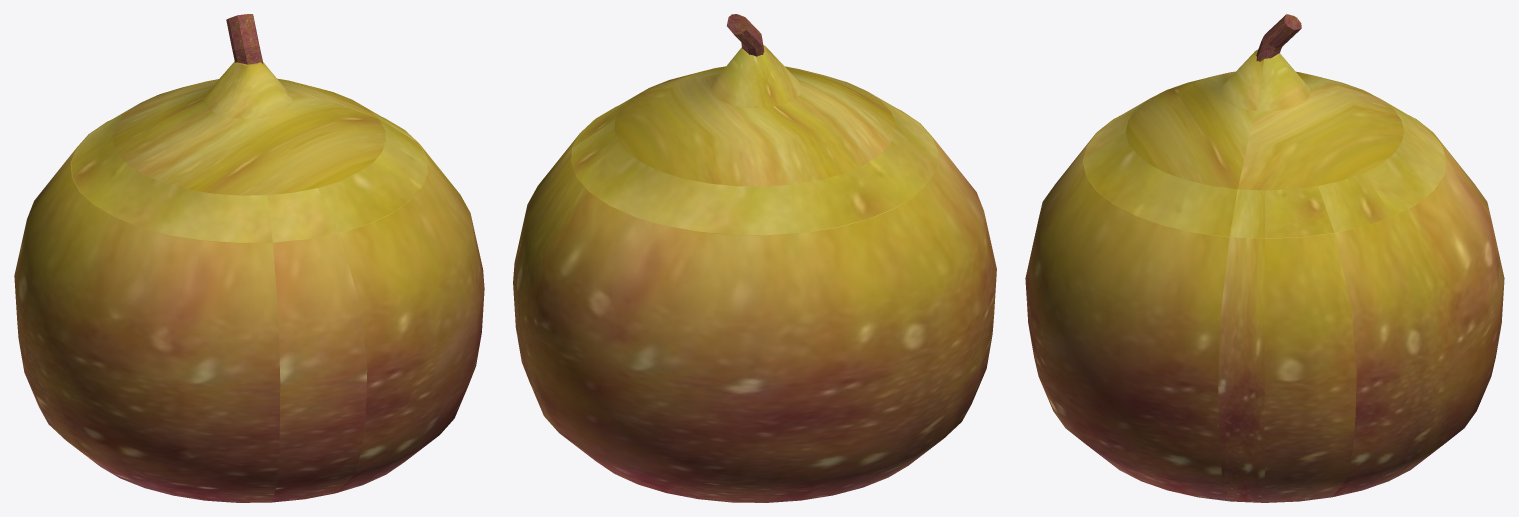
The model's file is Higo.fbx.
3 renders of one model, left to right at view 1: azimuth 30°, elevation 25°; view 2: azimuth 150°, elevation 25°; view 3: azimuth 270°, elevation 25°, orthographic. The views are drawn at different scales.
Parts seen in each view (by area): view 1: higo; view 2: higo; view 3: higo.
Boxes of the visible parts, x1,y1,x2,y2 form: higo: (14, 14, 484, 502); higo: (513, 14, 996, 502); higo: (1025, 14, 1504, 502).
Size of the model in its own units: 187 by 187 by 187.
1 material, 1 textured.
